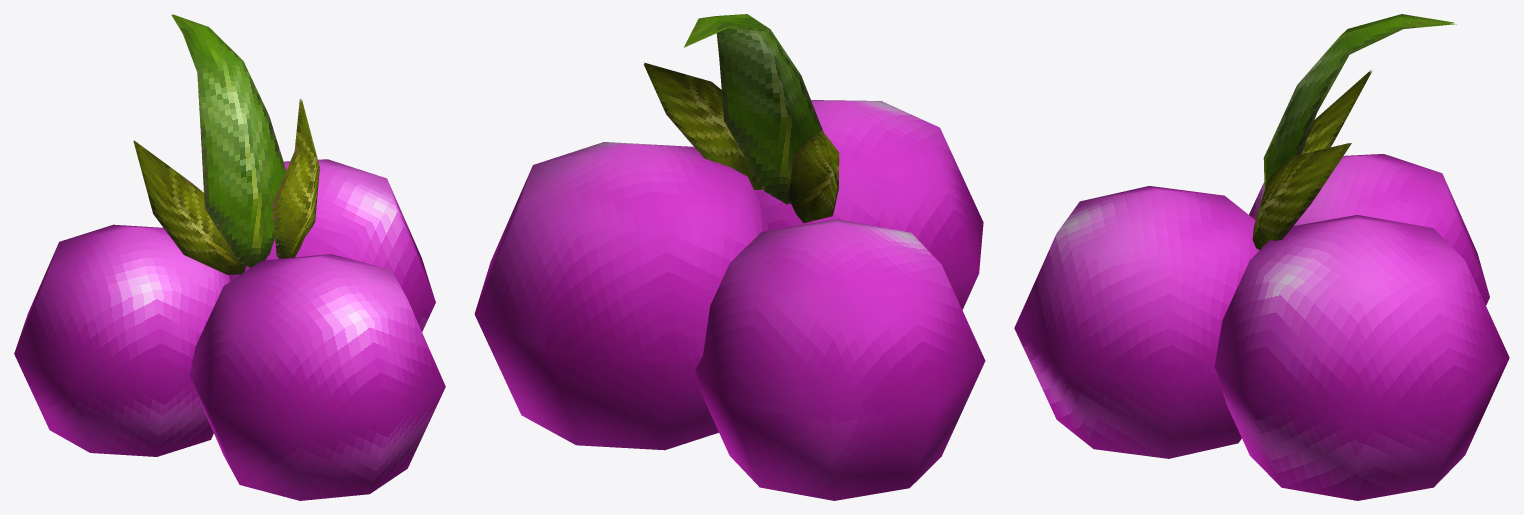
File: 58-tongshuaixidianguoshi.FBX
3 views of the same model, side by side, from view 1: azimuth 30°, elevation 25°; view 2: azimuth 150°, elevation 25°; view 3: azimuth 270°, elevation 25° (orthographic). The views are drawn at different scales.
Visible parts, largest first — view 1: 58; view 2: 58; view 3: 58.
Boxes of the visible parts, x1,y1,x2,y2 form: 58: (14, 14, 445, 500); 58: (474, 14, 985, 500); 58: (1014, 14, 1509, 500).
Size of the model in its own units: 34.16 by 32.69 by 34.01.
1 material, 1 textured.
